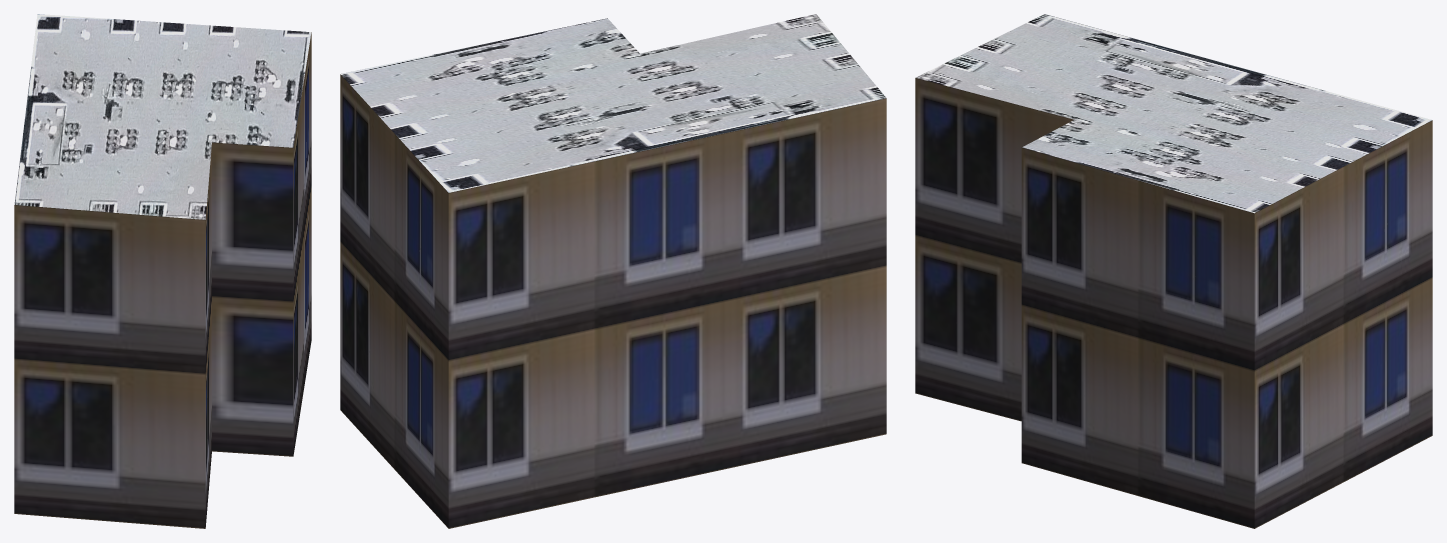
Rendered from ResTex__548.fbx.
3 renders of one model, left to right at view 1: azimuth 30°, elevation 25°; view 2: azimuth 150°, elevation 25°; view 3: azimuth 270°, elevation 25°, orthographic. The views are drawn at different scales.
Visible parts, largest first — view 1: CityEngineMaterial_5_m, CityEngineMaterial_8_m; view 2: CityEngineMaterial_5_m, CityEngineMaterial_8_m; view 3: CityEngineMaterial_5_m, CityEngineMaterial_8_m.
Boxes of the visible parts, x1=… form: CityEngineMaterial_5_m: x1=14, y1=32, x2=311, y2=528; CityEngineMaterial_8_m: x1=14, y1=14, x2=311, y2=219; CityEngineMaterial_5_m: x1=340, y1=74, x2=886, y2=528; CityEngineMaterial_8_m: x1=340, y1=14, x2=886, y2=192; CityEngineMaterial_5_m: x1=915, y1=78, x2=1432, y2=528; CityEngineMaterial_8_m: x1=916, y1=14, x2=1432, y2=213.
Bounding box in the file's own units: 8.12 × 6 × 8.91.
Materials: 2 (2 with a texture image).
